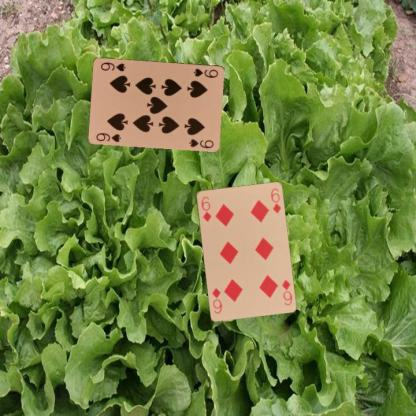6d: (198, 194, 213, 223), (279, 277, 293, 306)
9s: (191, 66, 220, 79), (94, 130, 122, 143)
